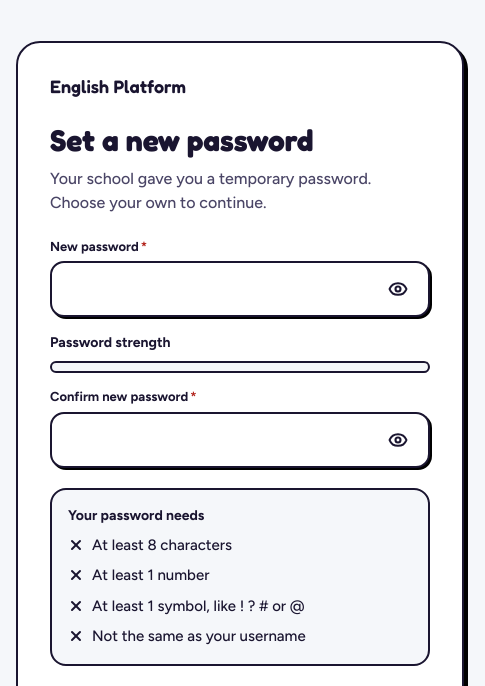
Test: SetNewPasswordPage › loads the dashboard afresh when the profile is not read again
Type "abcdefg1!" into the password field labelled "New password*" at (218, 289), box [64,263,372,315]
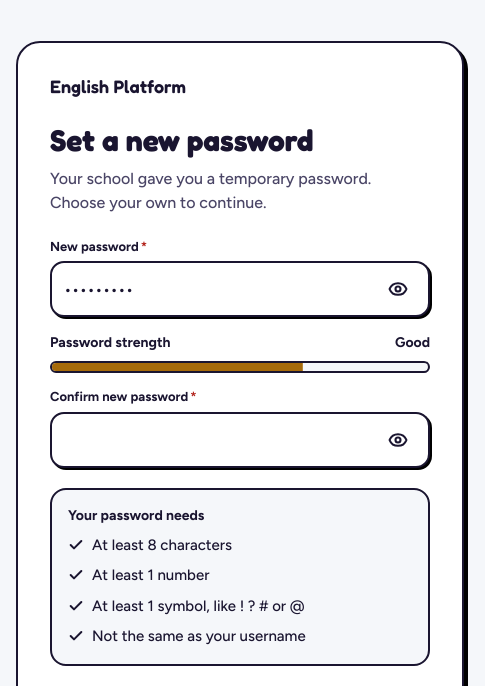
Type "abcdefg1!" into the password field labelled "Confirm new password*" at (218, 440), box [64,414,372,466]
(page scrolled)
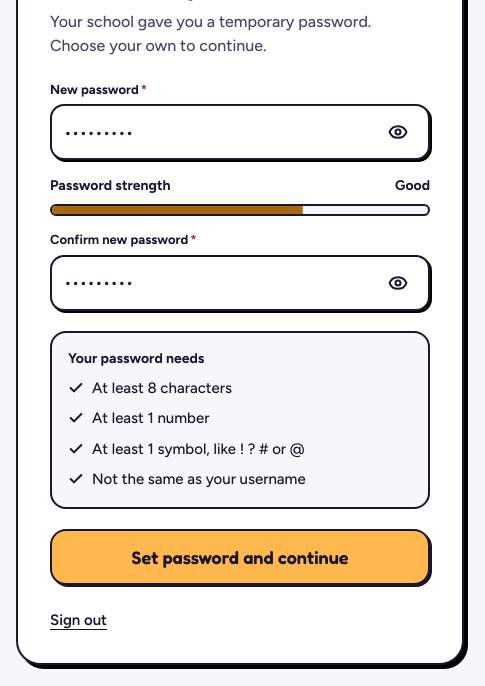
Click the button "Set password and continue" at (240, 556), box [50,528,430,584]
Wait 5100 ms
(page scrolled)
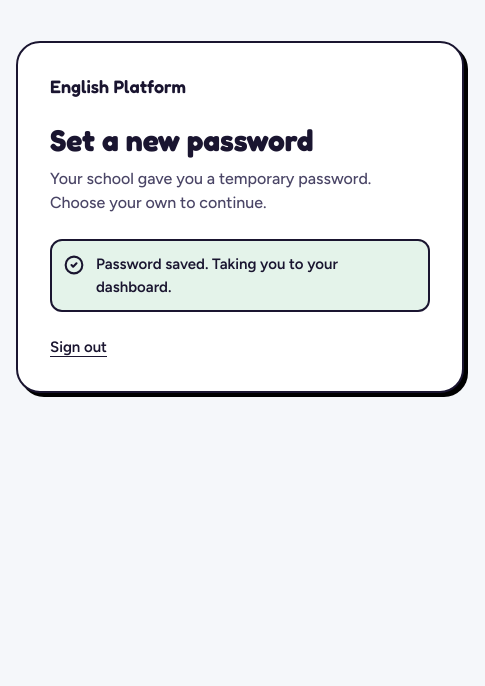
Check: the text "Password saved. Taking you to your dashboard." is shown, box [96,255,338,296]
